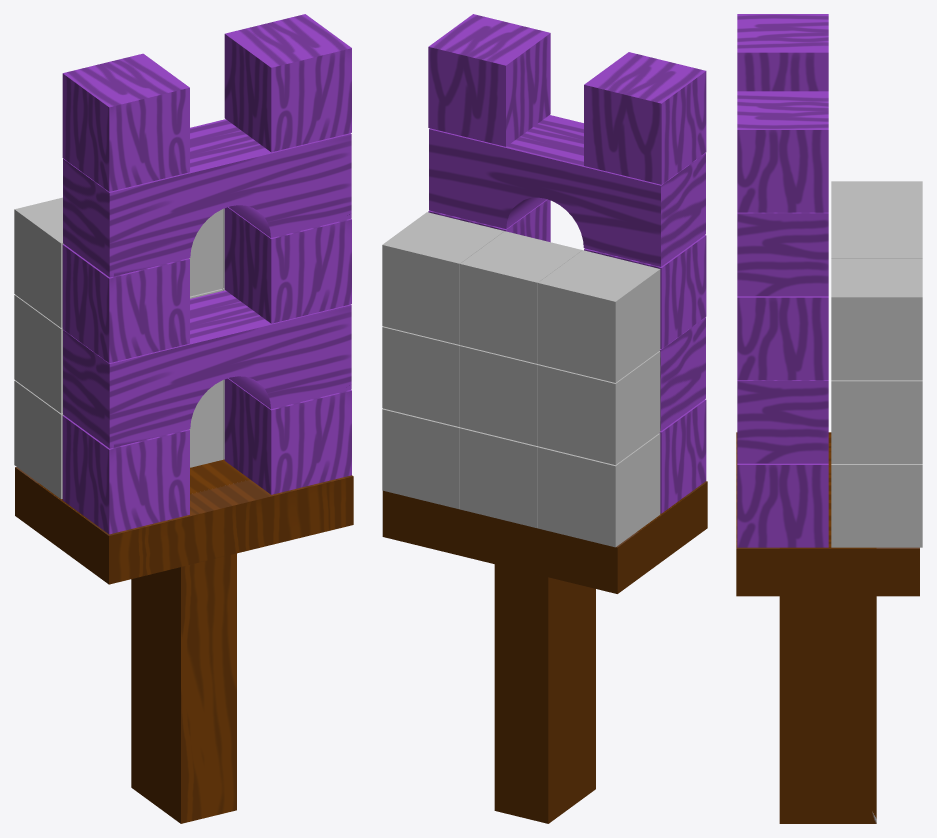
File: Level1-5.fbx
3 views of the same model, side by side, from view 1: azimuth 30°, elevation 25°; view 2: azimuth 150°, elevation 25°; view 3: azimuth 270°, elevation 25° (orthographic). The views are drawn at different scales.
Visible parts, largest first — view 1: Cube, Cube.004, Cube.001, Cube.007, Cube.008, Cube.002, Cube.005, Cube.006, Cube.003, Cube.016, Cube.010, Cube.013 (+2 smaller); view 2: Cube, Cube.004, Cube.007, Cube.008, Cube.016, Cube.010, Cube.013, Cube.017, Cube.015, Cube.011, Cube.009, Cube.014 (+5 smaller); view 3: Cube, Cube.008, Cube.017, Cube.003, Cube.004, Cube.006, Cube.001, Cube.011, Cube.014, Cube.007, Cube.015, Cube.016.
Boxes of the visible parts, x1,y1,x2,y2 form: Cube: (15, 459, 353, 823); Cube.004: (63, 119, 351, 277); Cube.001: (63, 290, 351, 448); Cube.007: (62, 53, 189, 191); Cube.008: (224, 14, 351, 152); Cube.002: (62, 415, 189, 534); Cube.005: (62, 244, 189, 363); Cube.006: (224, 207, 351, 323); Cube.003: (224, 378, 351, 494); Cube.016: (14, 197, 63, 327); Cube.010: (14, 380, 63, 499); Cube.013: (14, 294, 62, 413); Cube: (382, 481, 707, 823); Cube.004: (429, 115, 705, 266); Cube.007: (584, 52, 706, 184); Cube.008: (428, 14, 550, 146); Cube.016: (538, 250, 660, 382); Cube.010: (538, 433, 660, 547); Cube.013: (538, 351, 660, 464); Cube.017: (382, 212, 504, 344); Cube.015: (460, 231, 582, 363); Cube.011: (382, 408, 460, 509); Cube.009: (460, 427, 538, 528); Cube.014: (382, 326, 460, 426); Cube: (736, 432, 919, 823); Cube.008: (737, 91, 828, 212); Cube.017: (831, 259, 922, 380); Cube.003: (737, 463, 828, 547); Cube.004: (737, 212, 828, 296); Cube.006: (737, 296, 828, 380); Cube.001: (737, 380, 828, 463); Cube.011: (831, 464, 922, 547); Cube.014: (831, 380, 922, 463); Cube.007: (737, 14, 828, 91); Cube.015: (831, 220, 922, 258); Cube.016: (831, 181, 922, 219).
Size of the model in its own units: 605 by 1786 by 409.
